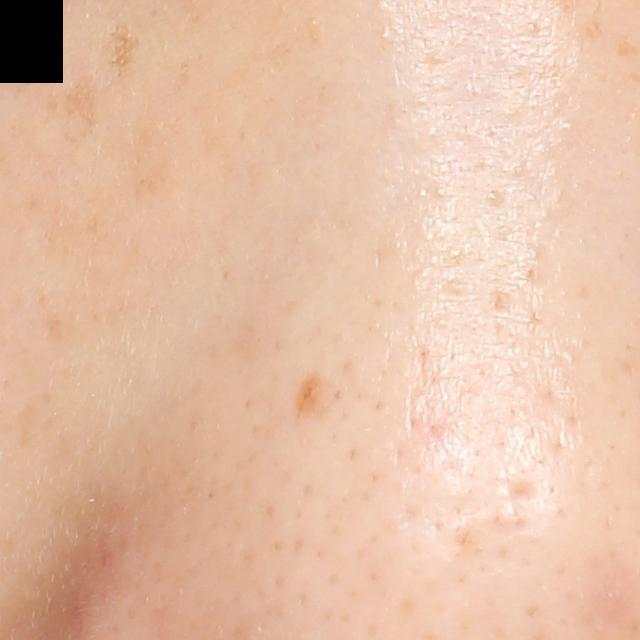atrophic_scar: (489, 470, 547, 513)
melasma: (10, 62, 103, 153), (126, 105, 186, 208), (98, 21, 146, 80), (290, 369, 329, 426)
